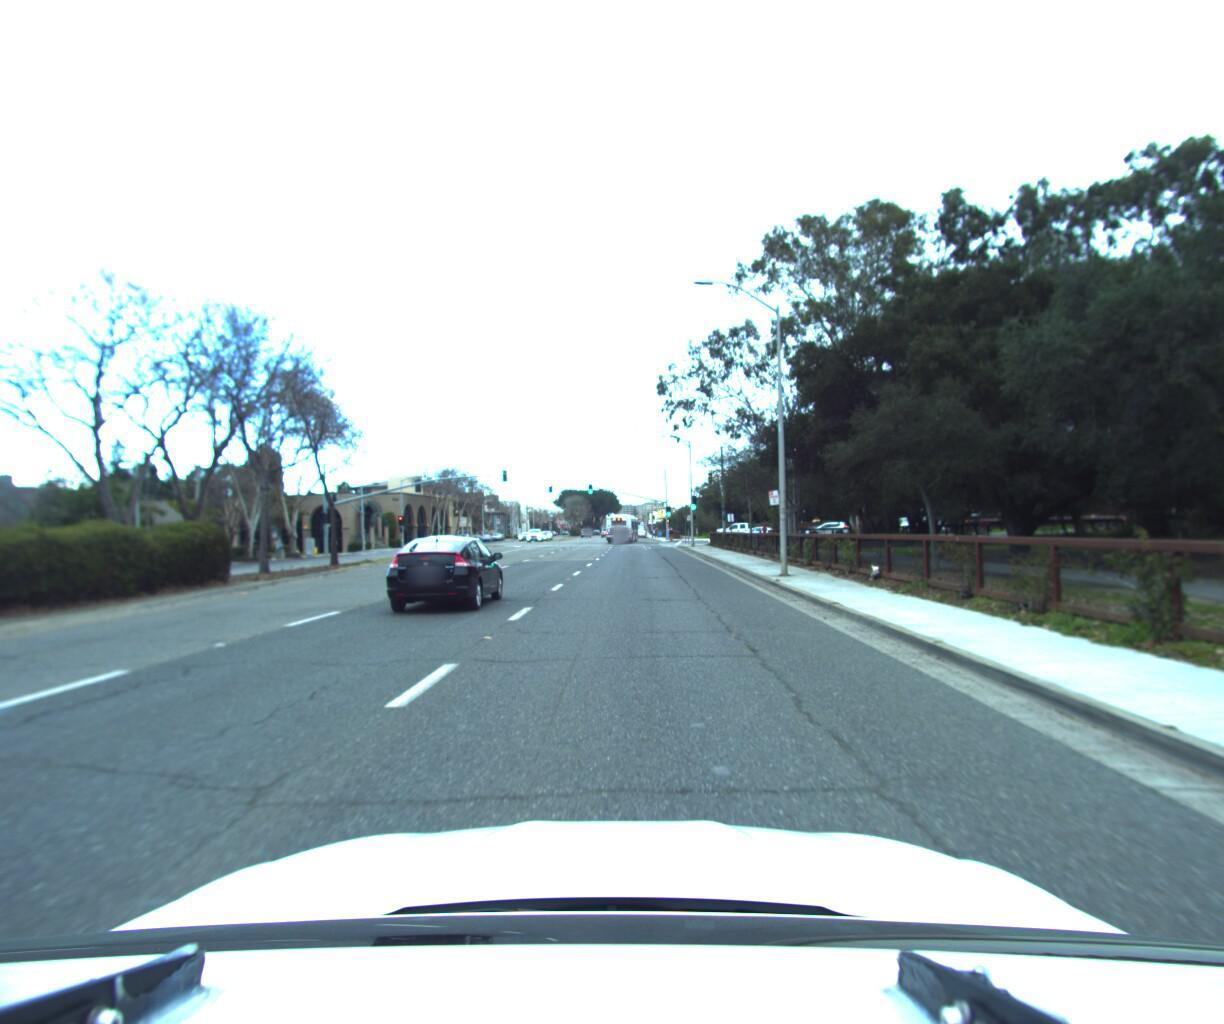car: (374, 527, 512, 615), (402, 528, 474, 569), (801, 516, 845, 534)
